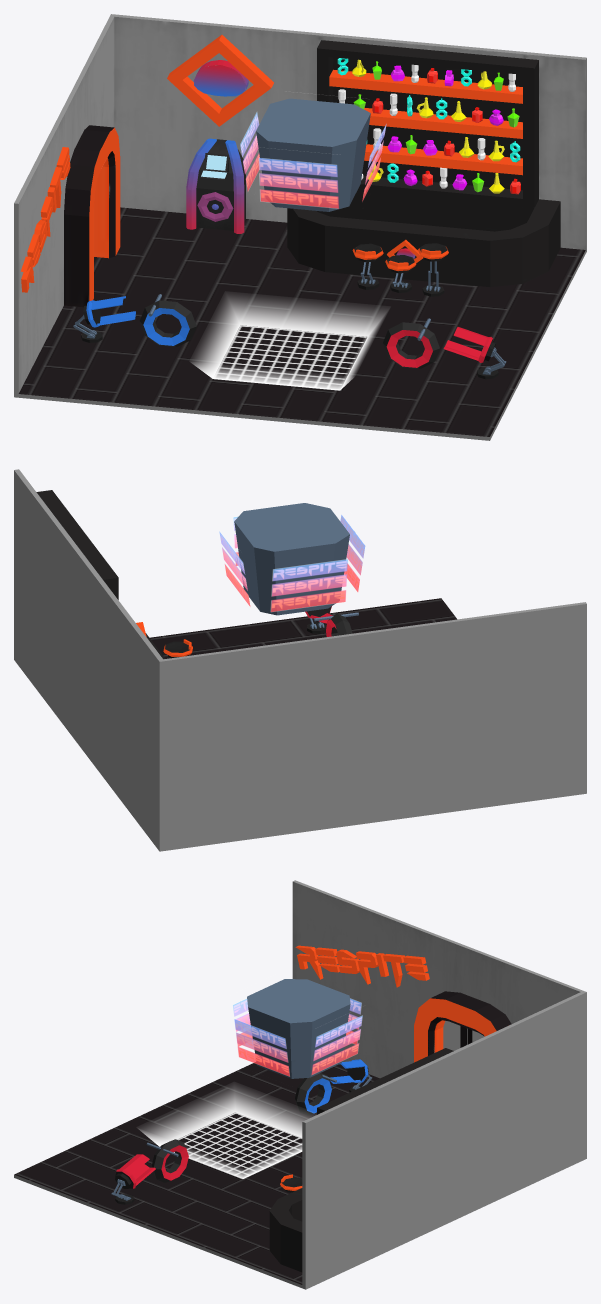
Rendered from cyberpunk_neon_bar.glb.
3 views of the same model, one above another, from view 1: azimuth 30°, elevation 25°; view 2: azimuth 150°, elevation 25°; view 3: azimuth 270°, elevation 25° (orthographic). The views are drawn at different scales.
Parts seen in each view (by area): view 1: Cylinder.001_1; view 2: Cylinder.001_1; view 3: Cylinder.001_1.
Part boxes in pixels (box(x1,y1,x2,y2)): Cylinder.001_1: box(14, 14, 586, 440); Cylinder.001_1: box(14, 469, 586, 851); Cylinder.001_1: box(14, 880, 586, 1289).
Bounding box in the file's own units: 59.99 × 19.82 × 59.81.
7 materials, 7 textured.
